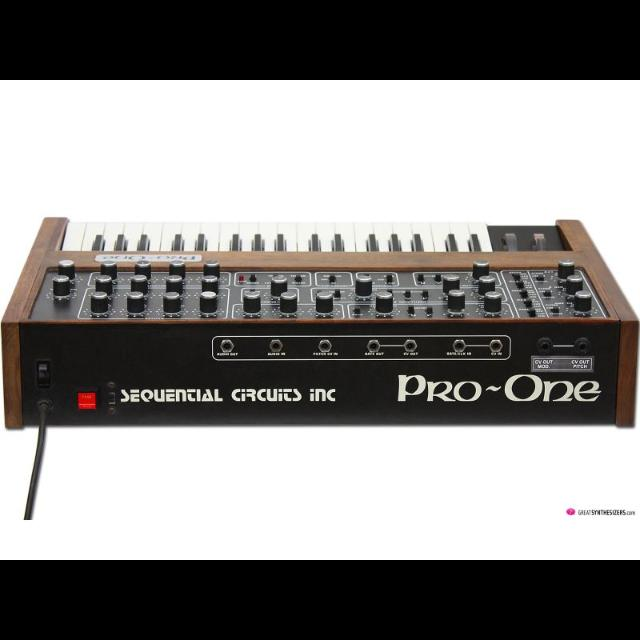Electronic-Keyboard: (10, 211, 632, 435)
